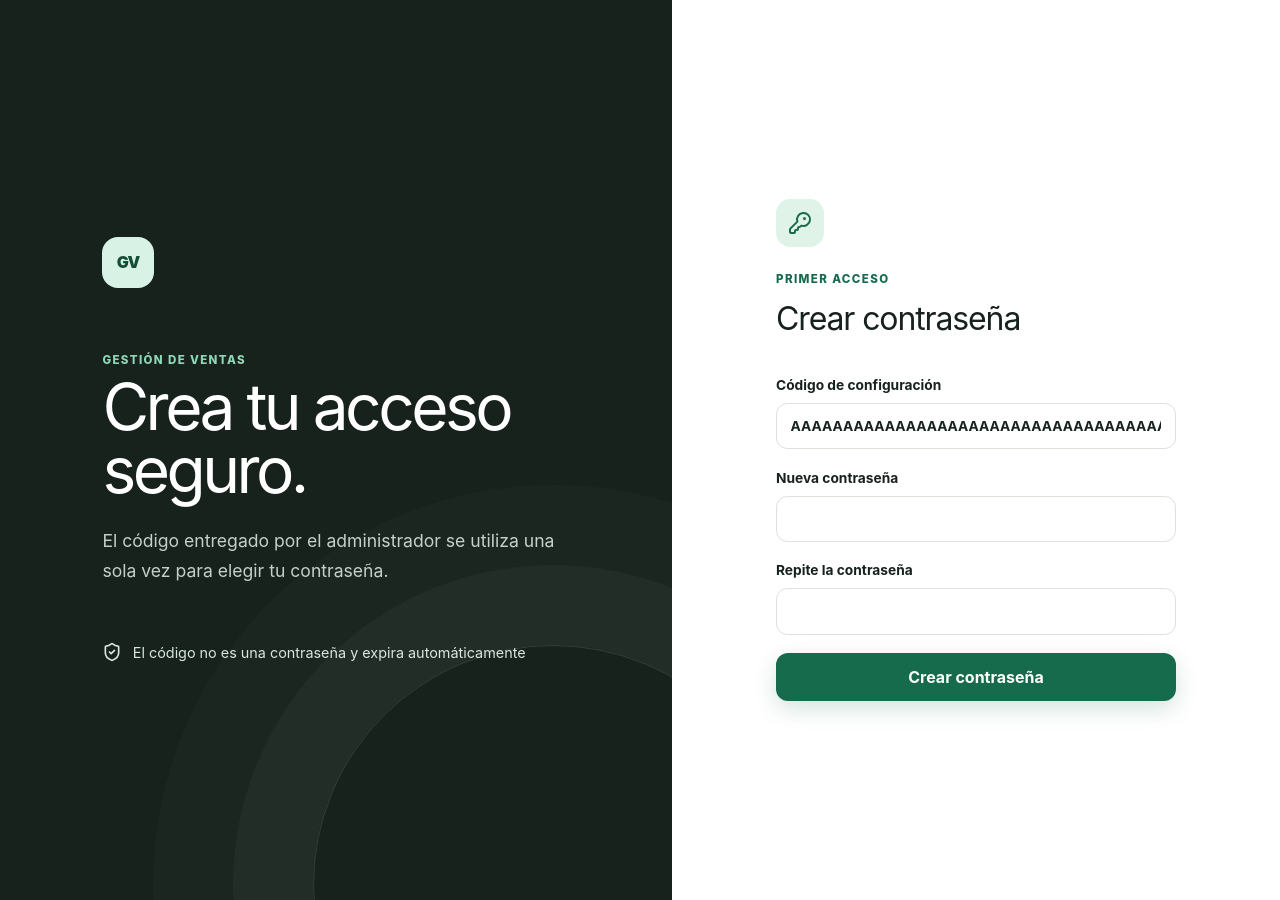
Test: configuración inicial de contraseña › canjea el token por una contraseña y nunca lo usa como login
The image size is (1280, 900).
Step 1. Type "NuevaClave123" into the password field labelled "Nueva contraseña" → (976, 519), box [776,496,1176,542]
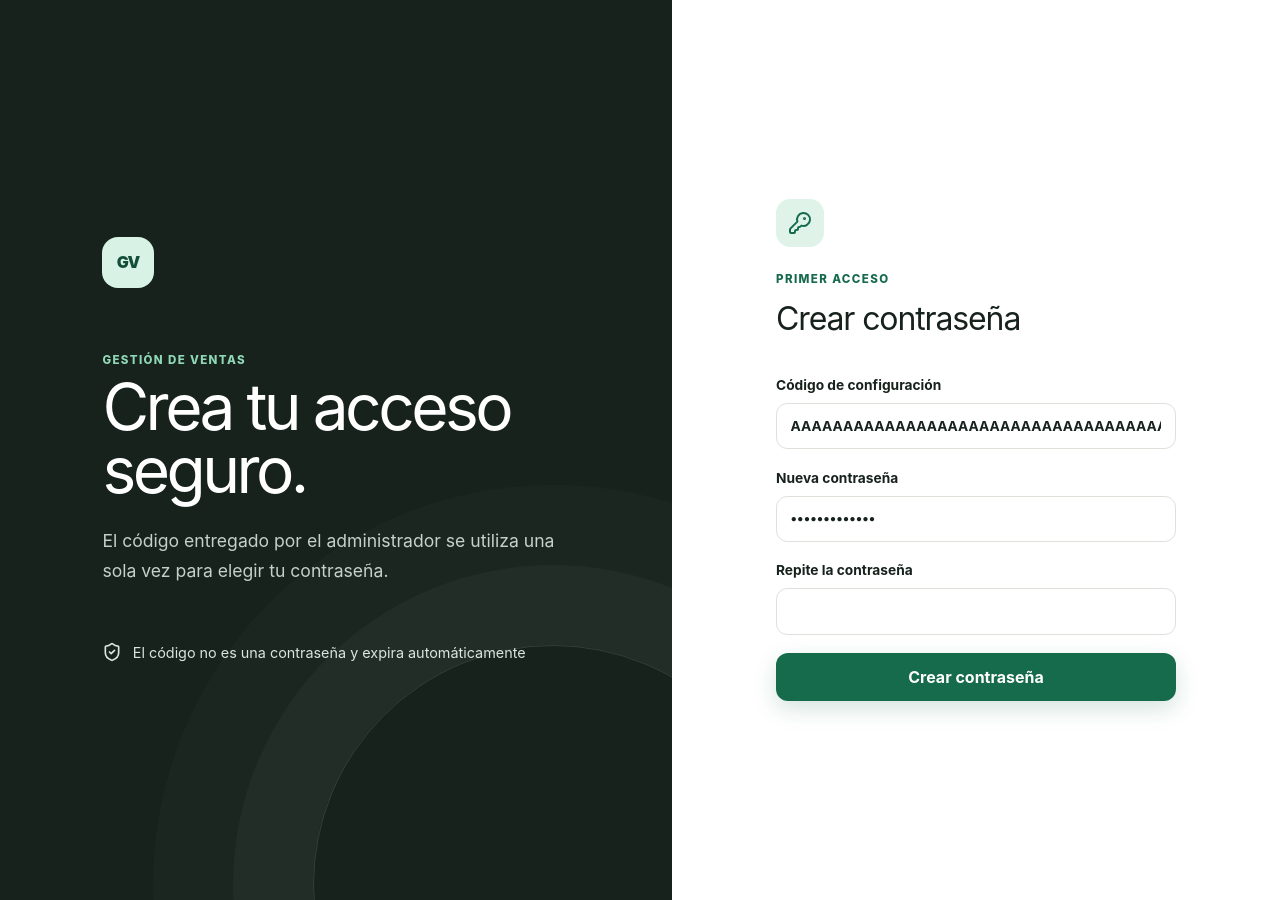
Step 2. Type "NuevaClave123" into the password field labelled "Repite la contraseña" → (976, 611), box [776,588,1176,635]
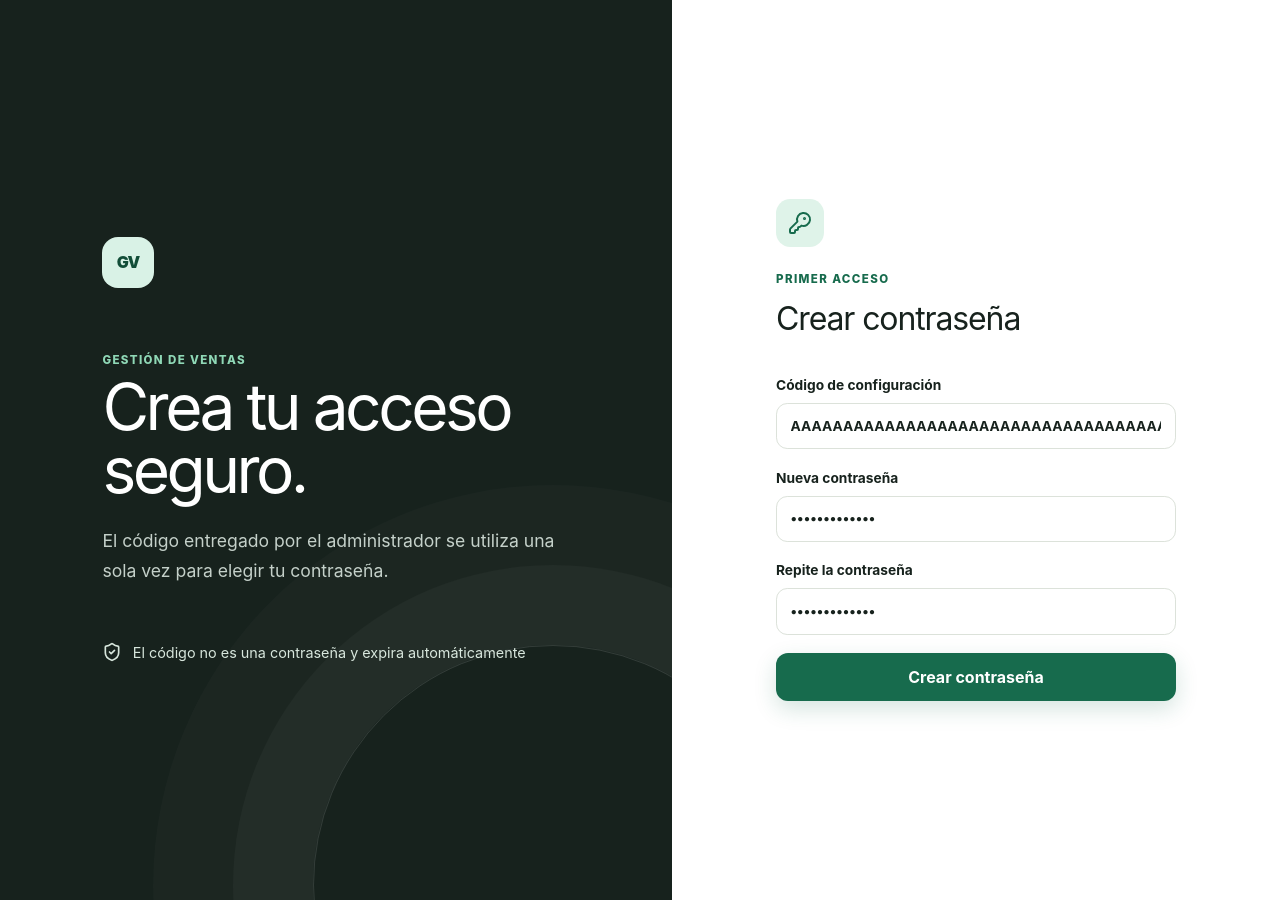
Step 3. Click the button "Crear contraseña" → (976, 677), box [776,653,1176,701]
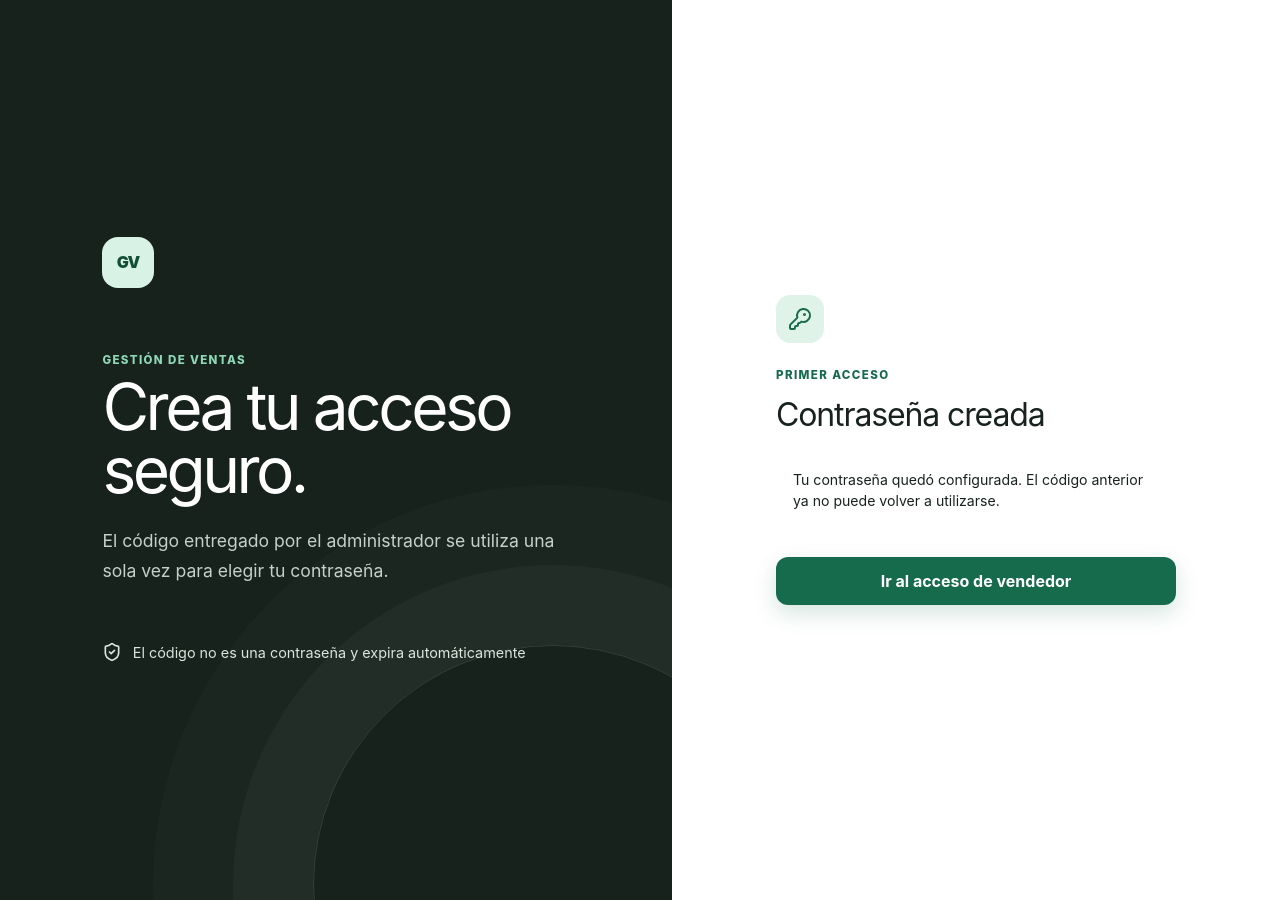
Expected: the heading "Contraseña creada" is shown, [776,395,1045,434]
